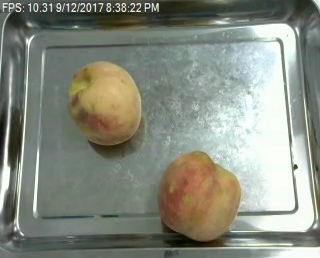Peach: (157, 151, 241, 241), (67, 59, 142, 146)
